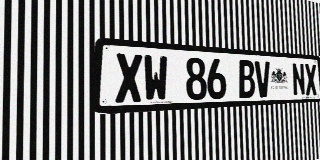6: (207, 58, 226, 99)
8: (185, 57, 207, 100)
B: (238, 60, 255, 98)
N: (292, 63, 305, 96)
V: (255, 61, 271, 97)
W: (143, 55, 168, 102)
X: (115, 53, 143, 103), (304, 64, 317, 96)
